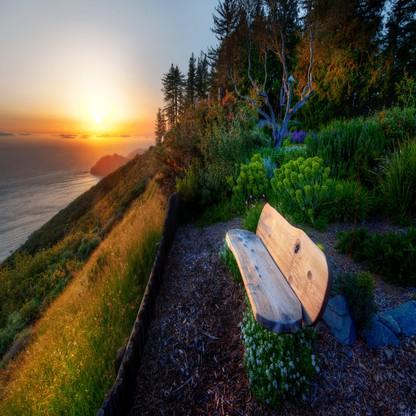obstacle: (214, 196, 339, 362)
